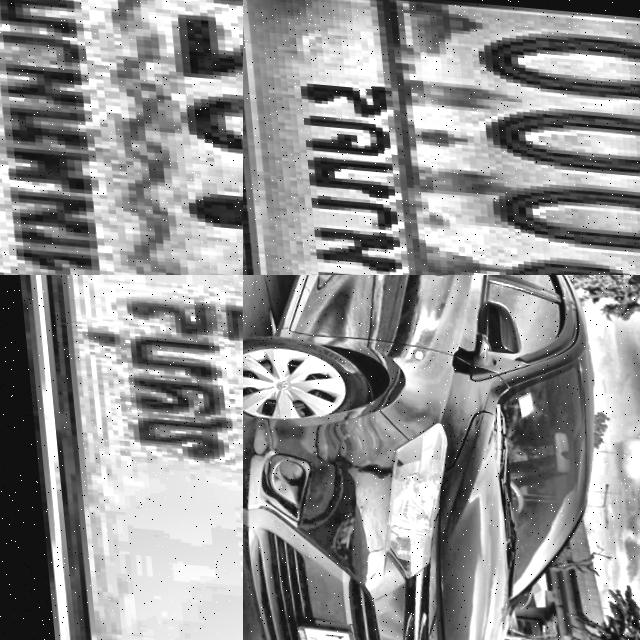license-plate: (243, 0, 640, 275), (0, 275, 243, 640), (0, 0, 243, 275), (280, 616, 357, 640)
